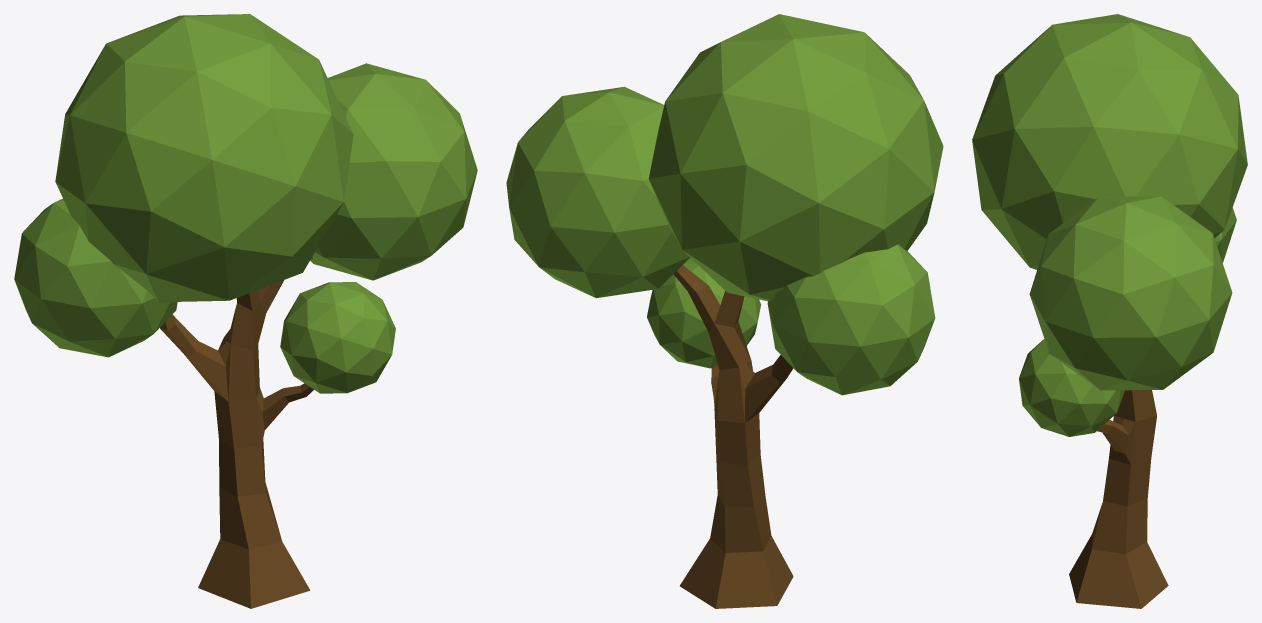
The model's file is tree1.glb.
The picture shows the model from 3 angles, left to right: view 1: azimuth 30°, elevation 25°; view 2: azimuth 150°, elevation 25°; view 3: azimuth 270°, elevation 25°; orthographic projection. The views are drawn at different scales.
Visible parts, largest first — view 1: Leaves.002, Leaves.001, TreeBase.001, Leaves, Leaves.003; view 2: Leaves.002, Leaves.001, TreeBase.001, Leaves, Leaves.003; view 3: Leaves.002, Leaves.001, TreeBase.001, Leaves.003, Leaves.
Part boxes in pixels (<box>): Leaves.002: <box>55,14,353,302</box>; Leaves.001: <box>310,63,477,280</box>; TreeBase.001: <box>160,257,313,608</box>; Leaves: <box>14,198,177,357</box>; Leaves.003: <box>280,282,395,393</box>; Leaves.002: <box>648,14,943,301</box>; Leaves.001: <box>506,86,689,298</box>; TreeBase.001: <box>673,265,793,608</box>; Leaves: <box>767,244,935,395</box>; Leaves.003: <box>647,257,761,368</box>; Leaves.002: <box>972,14,1247,269</box>; Leaves.001: <box>1029,196,1232,390</box>; TreeBase.001: <box>1069,390,1168,608</box>; Leaves.003: <box>1019,339,1124,436</box>; Leaves: <box>1214,207,1236,262</box>.
Size of the model in its own units: 4.44 by 5.82 by 2.71.
1 material, 1 textured.
